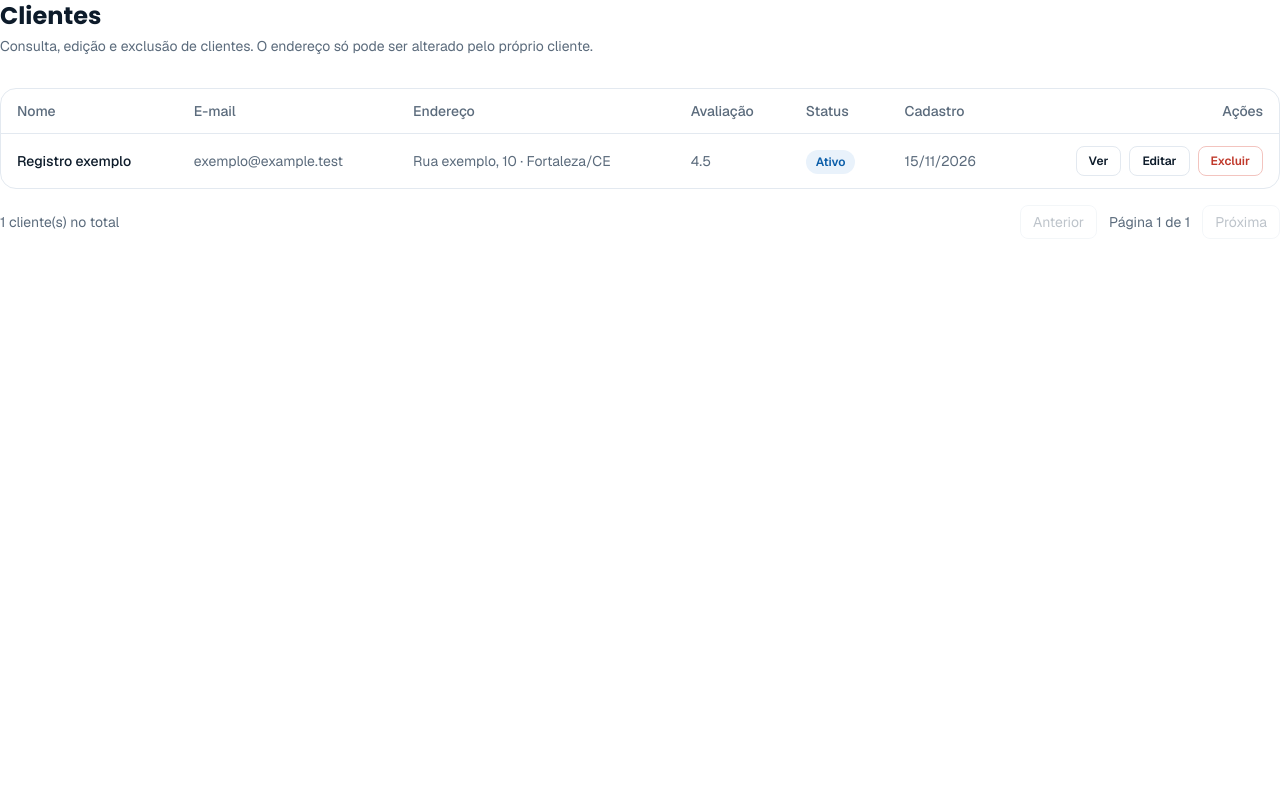
Test: clients request lifecycle › handles deletion: success
The image size is (1280, 800).
Check: the text "Registro exemplo" is shown, box [1,134,178,188]
Click the button "Excluir". click: point(1230, 161)
box: [1198,146,1263,176]
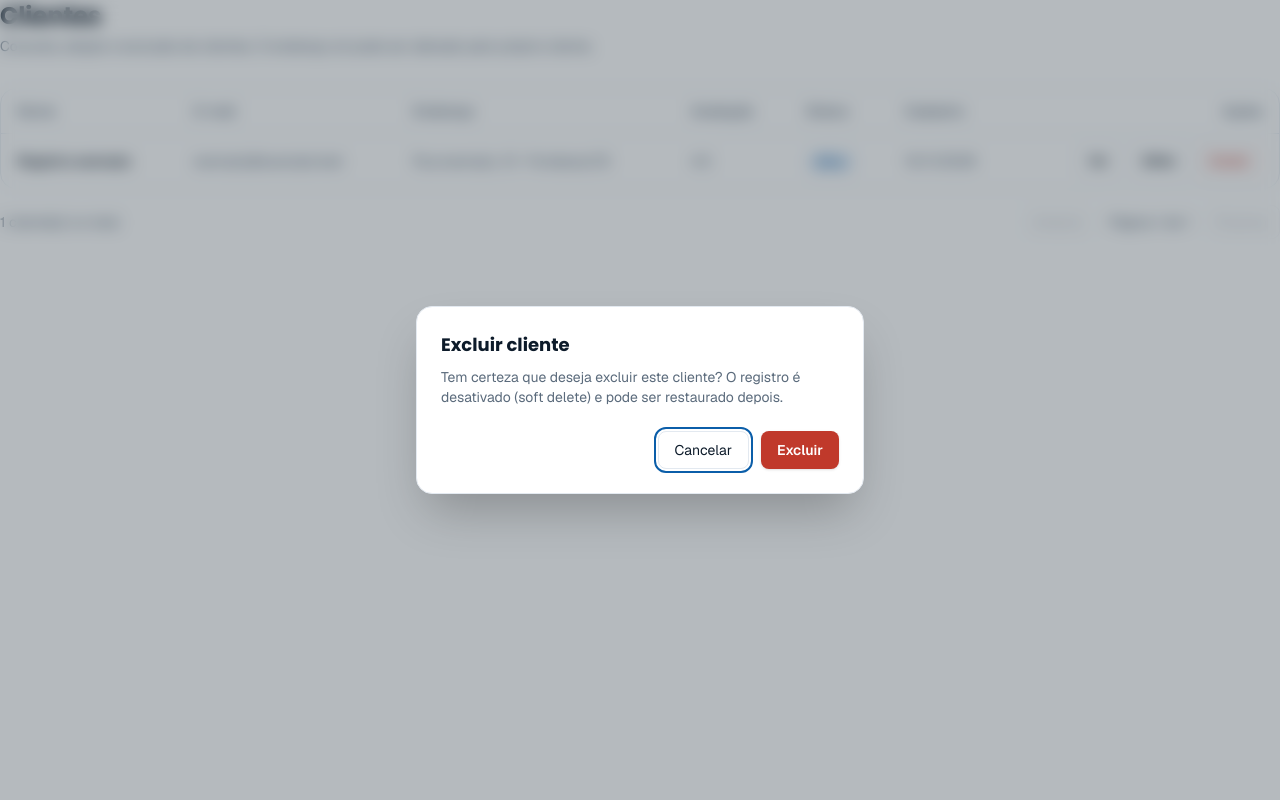
Click the button "Cancelar". click: point(703, 450)
box: [658,431,749,469]
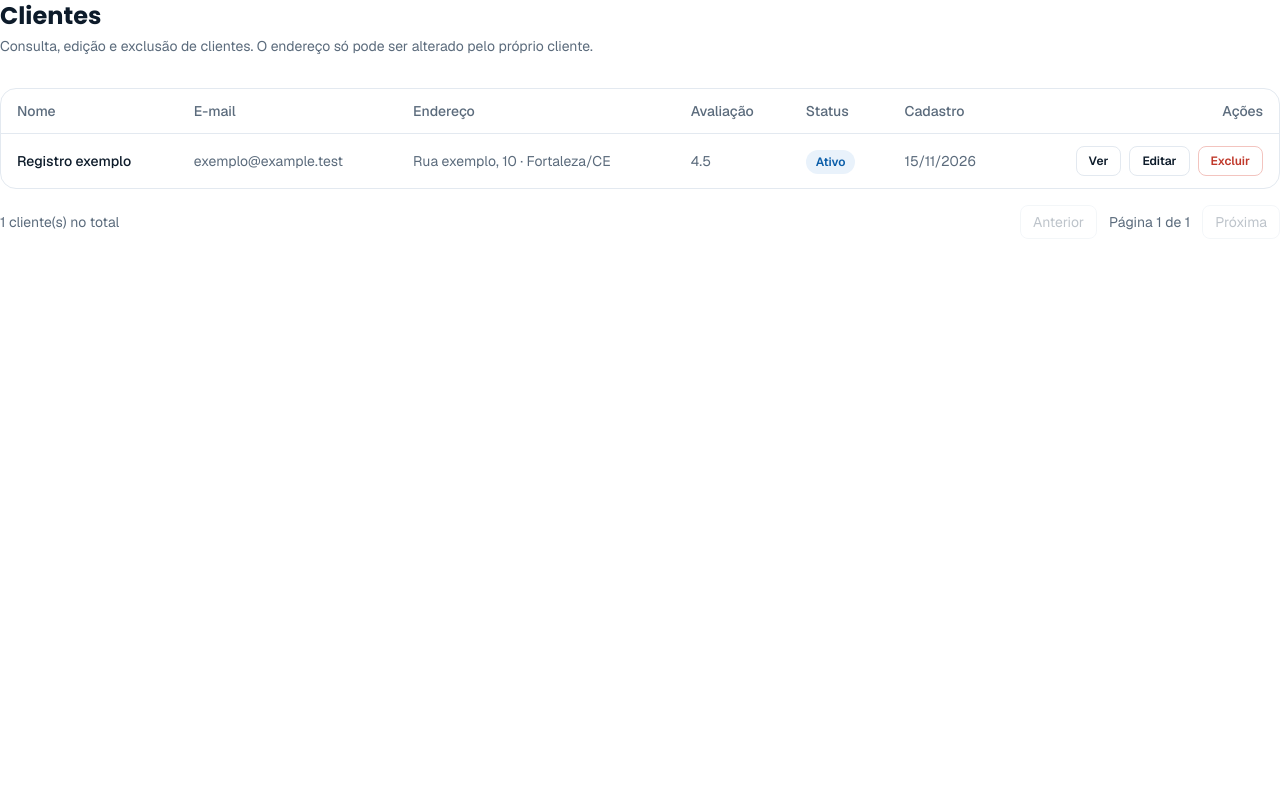
Click the button "Excluir". click: point(1230, 161)
box: [1198,146,1263,176]
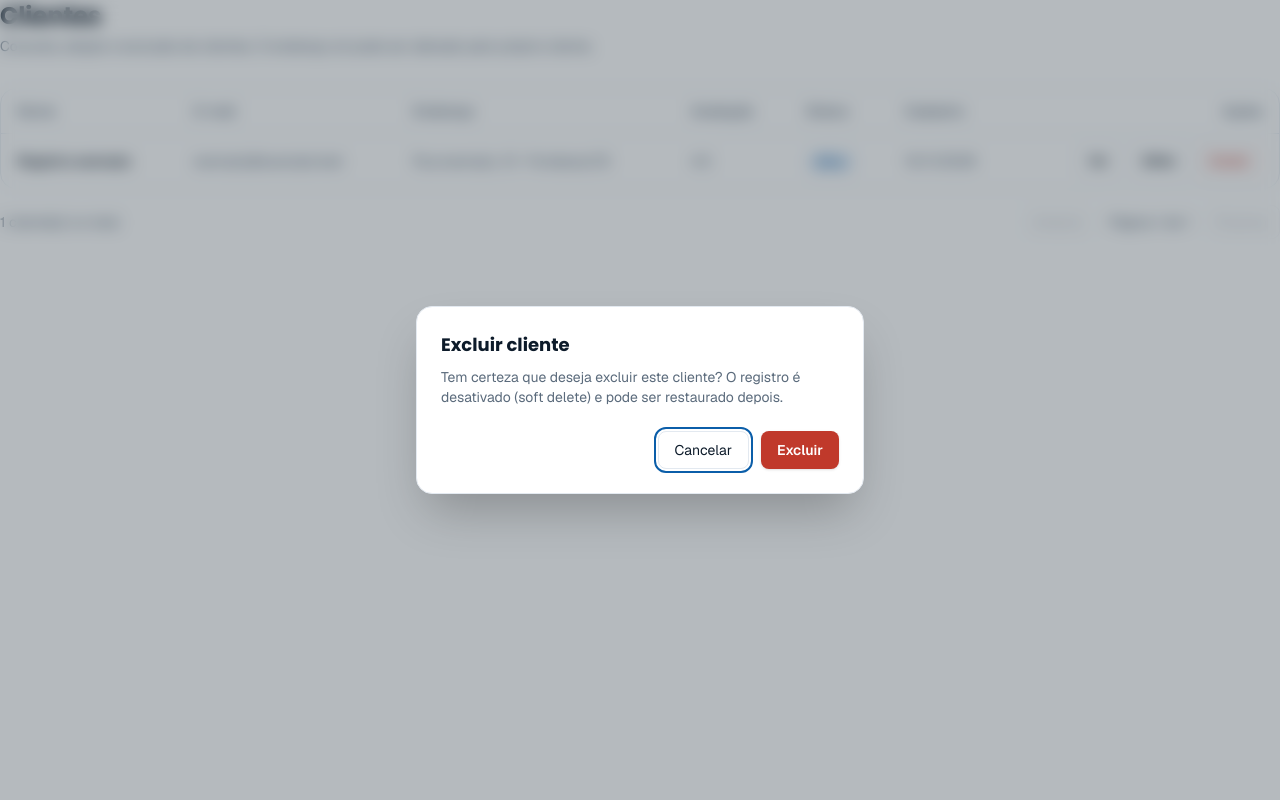
Click the button "Excluir". click: point(800, 450)
box: [761,431,839,469]
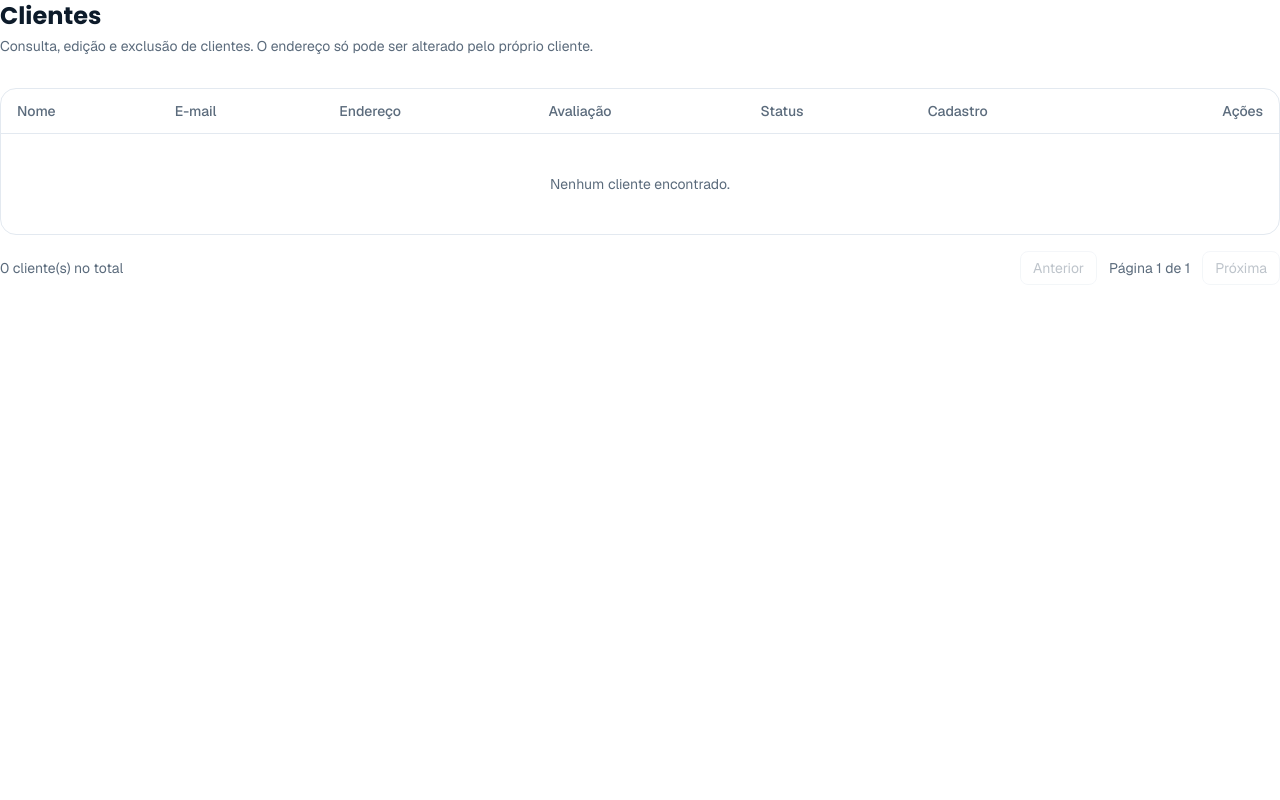
Check: the text "Nenhum cliente encontrado." is shown, box [1,134,1279,234]
Check: the dialog is gone
